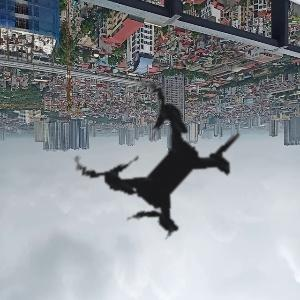drone: (29, 34, 294, 299)
